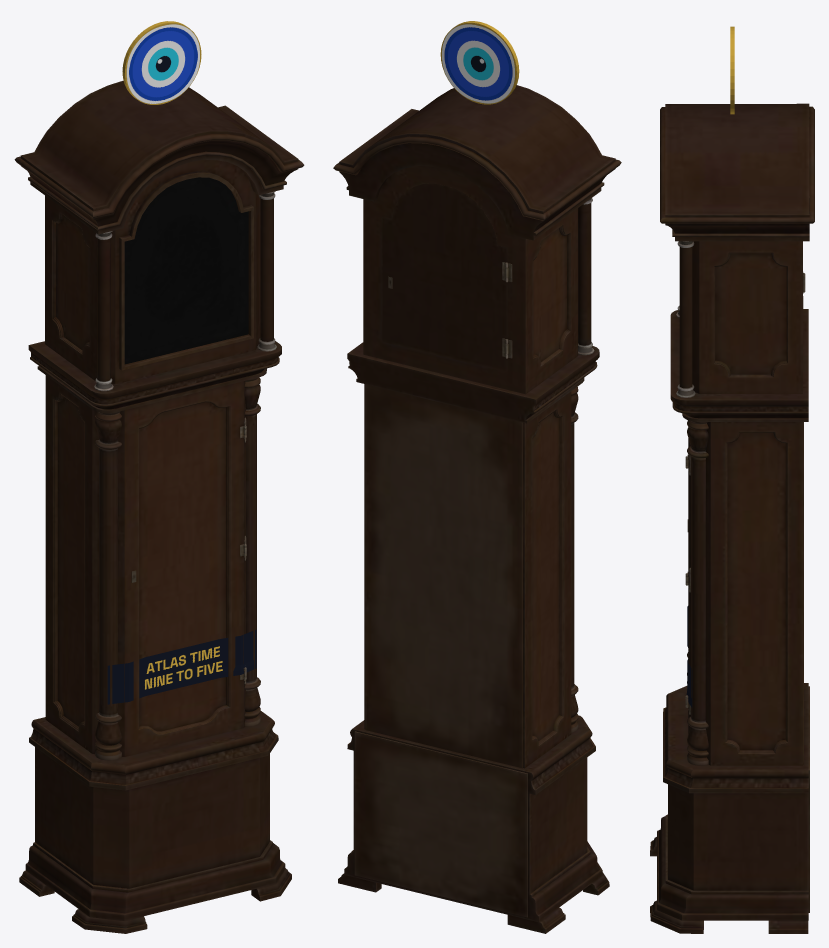
Rendered from nyb_crowd_tallclock.glb.
3 renders of one model, left to right at view 1: azimuth 30°, elevation 25°; view 2: azimuth 150°, elevation 25°; view 3: azimuth 270°, elevation 25°, orthographic.
Visible parts, largest first — view 1: vintage_grandfather_clock_01_body, stk_lbl_1baa4032aa.png, add_nazar_die.png, Cylinder; view 2: vintage_grandfather_clock_01_body, add_nazar_die.png, Cylinder; view 3: vintage_grandfather_clock_01_body, Cylinder.
Boxes of the visible parts, x1,y1,x2,y2 form: vintage_grandfather_clock_01_body: (14, 80, 304, 933); stk_lbl_1baa4032aa.png: (107, 629, 256, 704); add_nazar_die.png: (126, 24, 199, 103); Cylinder: (122, 21, 201, 104); vintage_grandfather_clock_01_body: (333, 85, 621, 933); add_nazar_die.png: (442, 24, 514, 103); Cylinder: (440, 21, 519, 104); vintage_grandfather_clock_01_body: (650, 103, 814, 933); Cylinder: (730, 26, 734, 114).
Bounding box in the file's own units: 0.6256 × 2.43 × 0.4267.
Materials: 5 (4 with a texture image).
